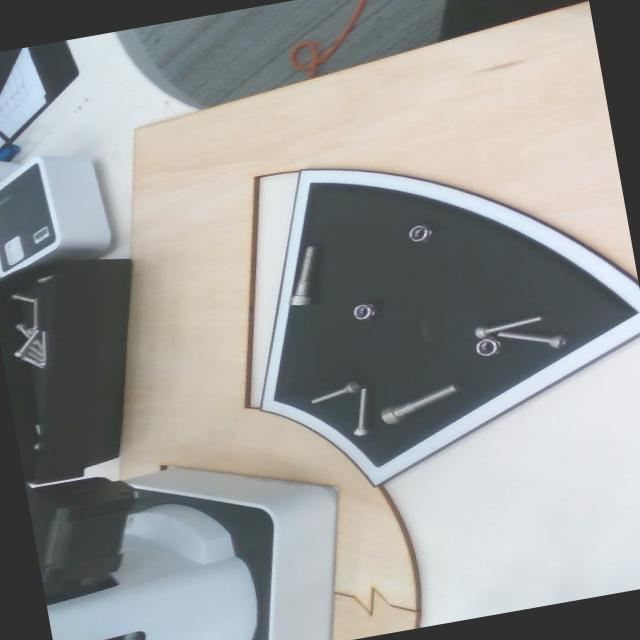big: (378, 377, 462, 429), (287, 241, 319, 312)
circle: (403, 220, 436, 247), (348, 299, 381, 325), (472, 333, 505, 358)
small: (471, 313, 545, 343), (307, 378, 364, 406), (346, 388, 376, 438), (495, 331, 572, 350)
